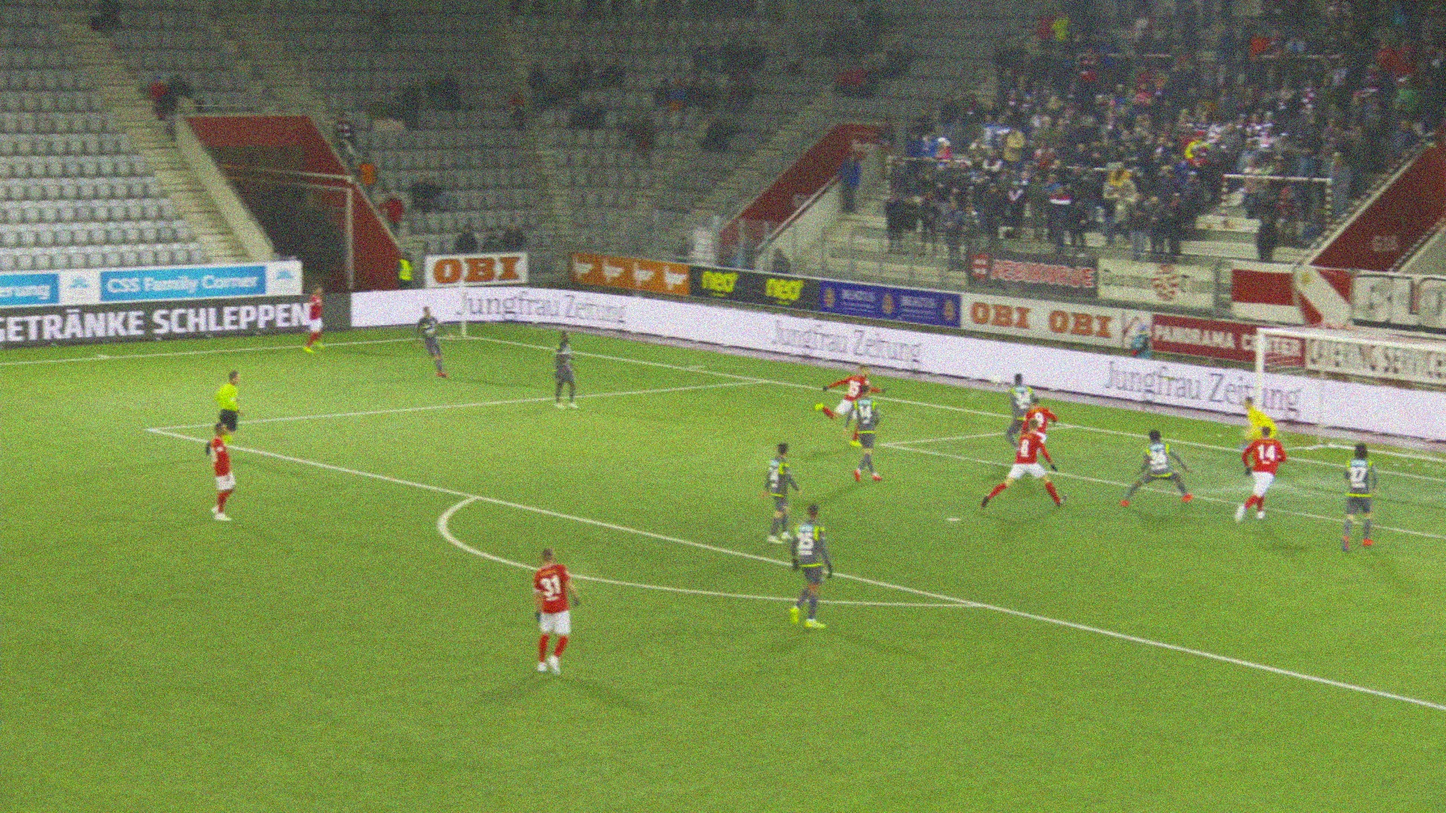ball: (975, 372, 991, 383)
goalkeeper: (1240, 394, 1280, 453)
player: (979, 421, 1064, 512), (1127, 424, 1200, 506), (536, 552, 586, 670), (789, 505, 834, 628), (1236, 427, 1288, 529), (821, 364, 874, 445), (842, 385, 885, 481), (764, 442, 802, 543), (1347, 444, 1381, 550), (208, 423, 236, 521), (1009, 374, 1046, 446), (1014, 400, 1057, 460), (415, 307, 450, 376), (554, 331, 583, 408), (311, 284, 334, 352)
referee: (205, 370, 244, 455)
